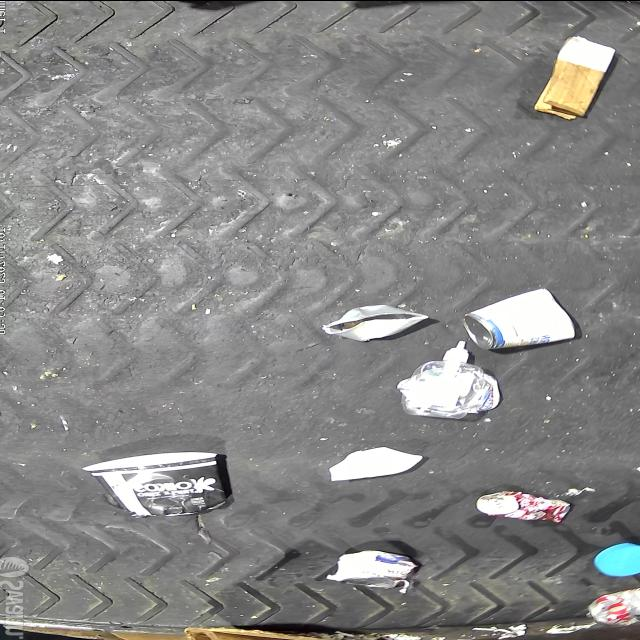can: (461, 287, 576, 351), (321, 304, 429, 342), (476, 491, 570, 524), (332, 550, 413, 586), (584, 588, 640, 628)
